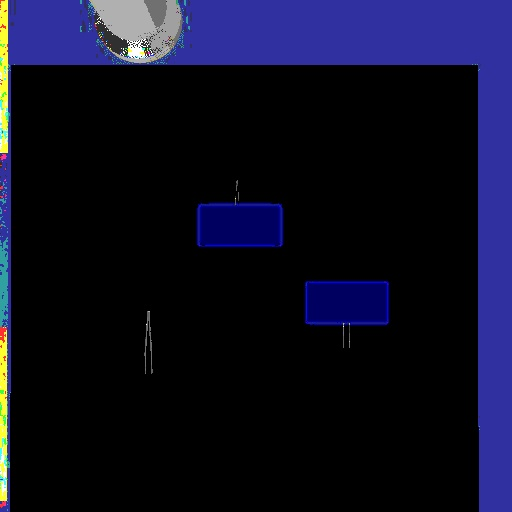pinza: (137, 304, 162, 380), (336, 322, 359, 352), (229, 175, 246, 205)
